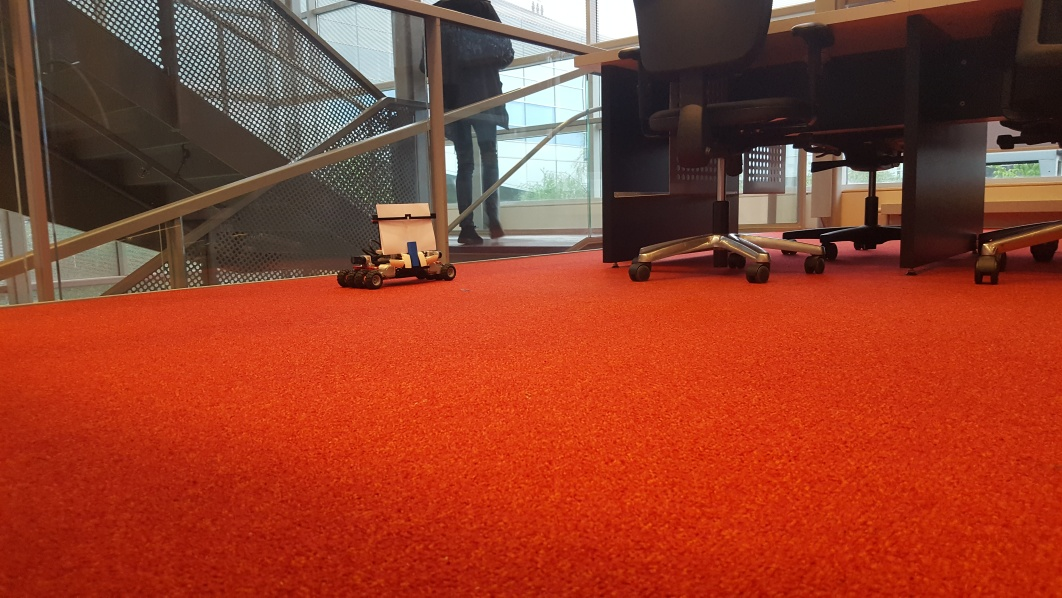car: (337, 202, 456, 287)
